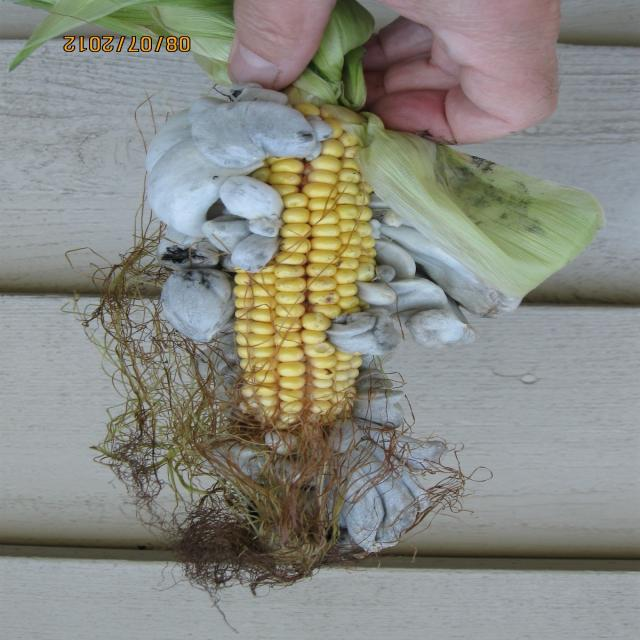Leaf_Scald: (44, 72, 531, 584)
